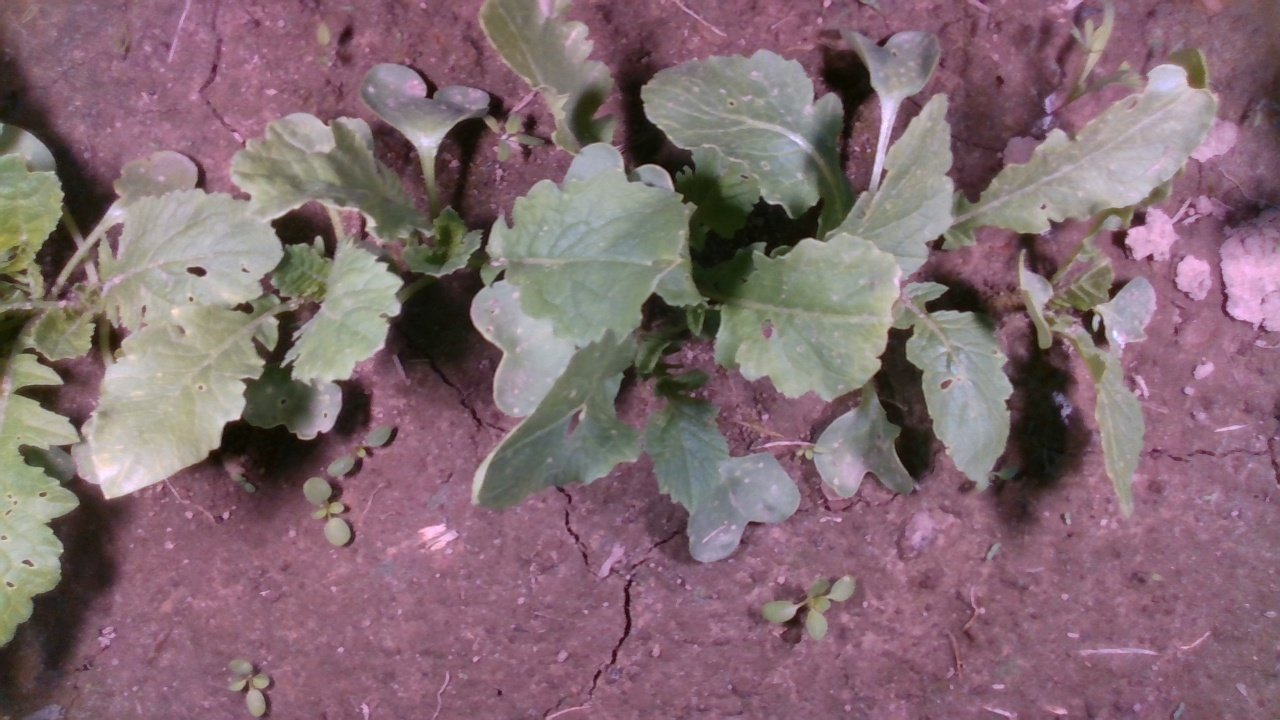weed: (757, 573, 857, 643), (325, 420, 394, 477), (301, 477, 352, 549), (226, 657, 273, 718)
